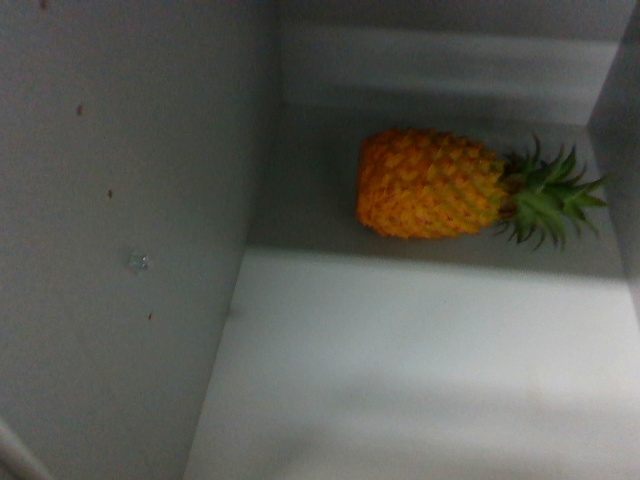pineapple: (354, 120, 606, 253)
